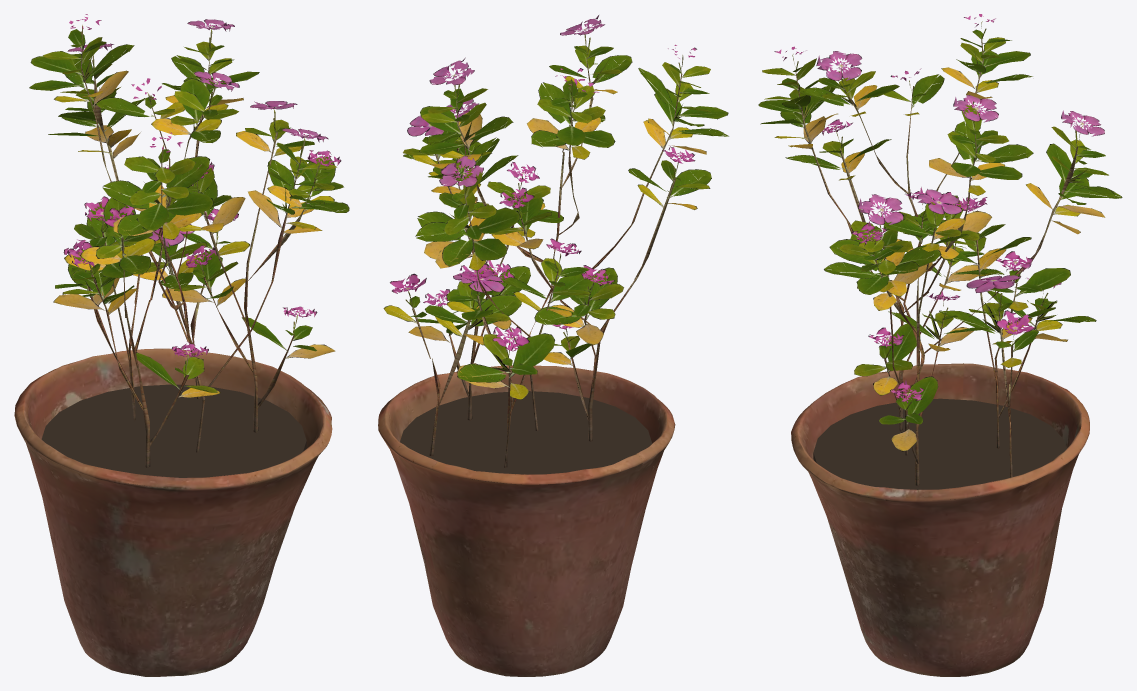
Rendered from plant_flower.glb.
3 renders of one model, left to right at view 1: azimuth 30°, elevation 25°; view 2: azimuth 150°, elevation 25°; view 3: azimuth 270°, elevation 25°, orthographic. The views are drawn at different scales.
Visible parts, largest first — view 1: plant_flower; view 2: plant_flower; view 3: plant_flower.
Boxes of the visible parts, bbox=[...] form: plant_flower: bbox=[14, 14, 349, 676]; plant_flower: bbox=[378, 15, 728, 676]; plant_flower: bbox=[758, 14, 1122, 676].
Size of the model in its own units: 0.2717 by 0.5838 by 0.3209.
3 materials, 2 textured.
